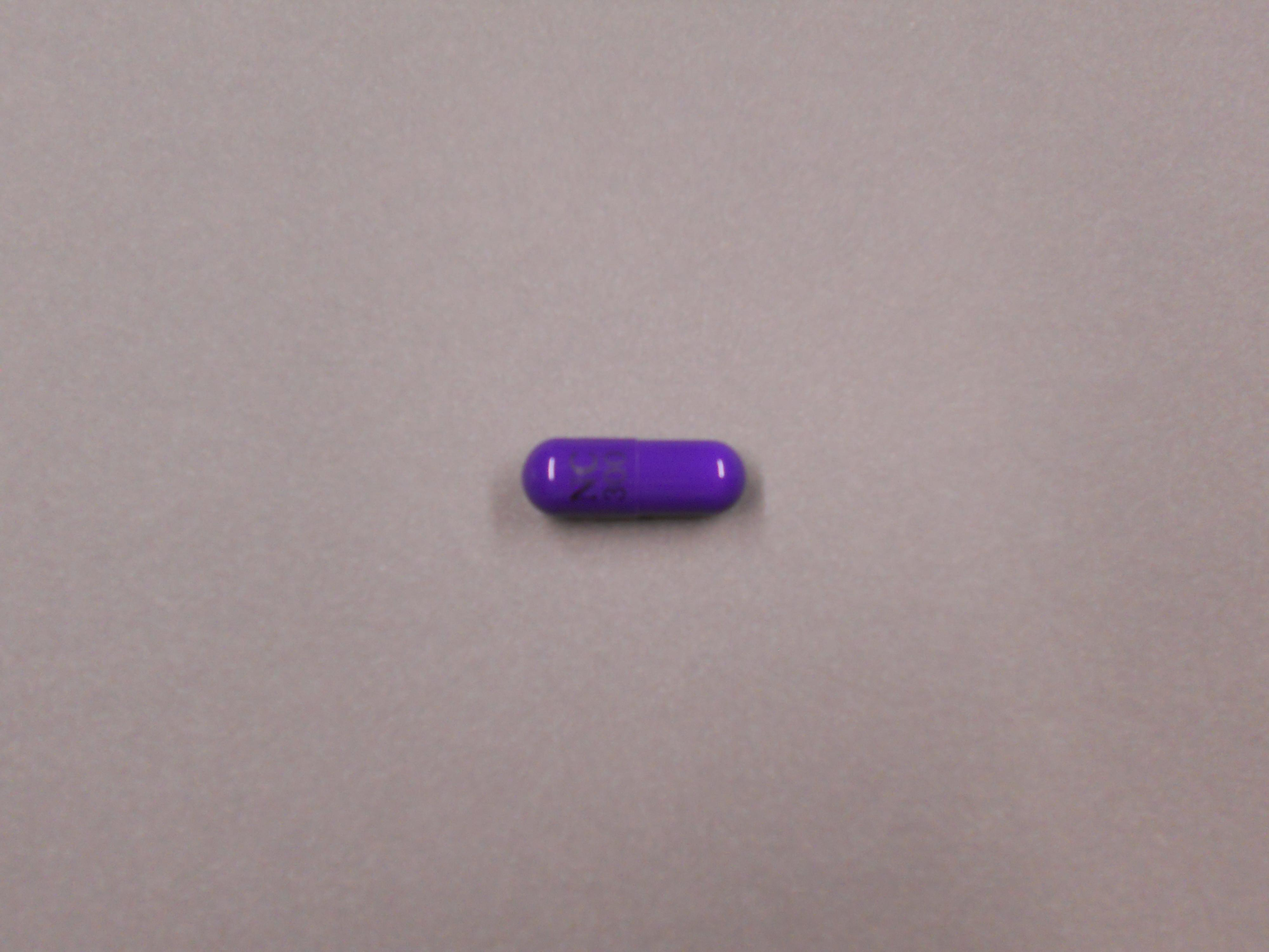Pill: (516, 430, 752, 528)
